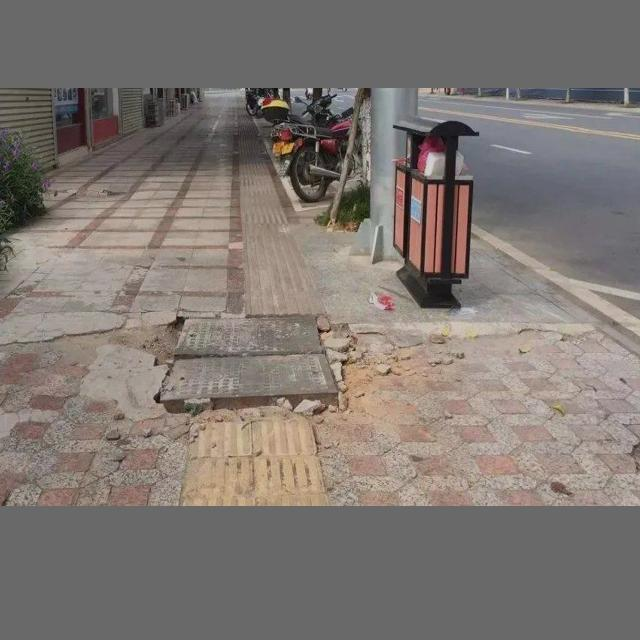circle: (122, 289, 390, 458)
